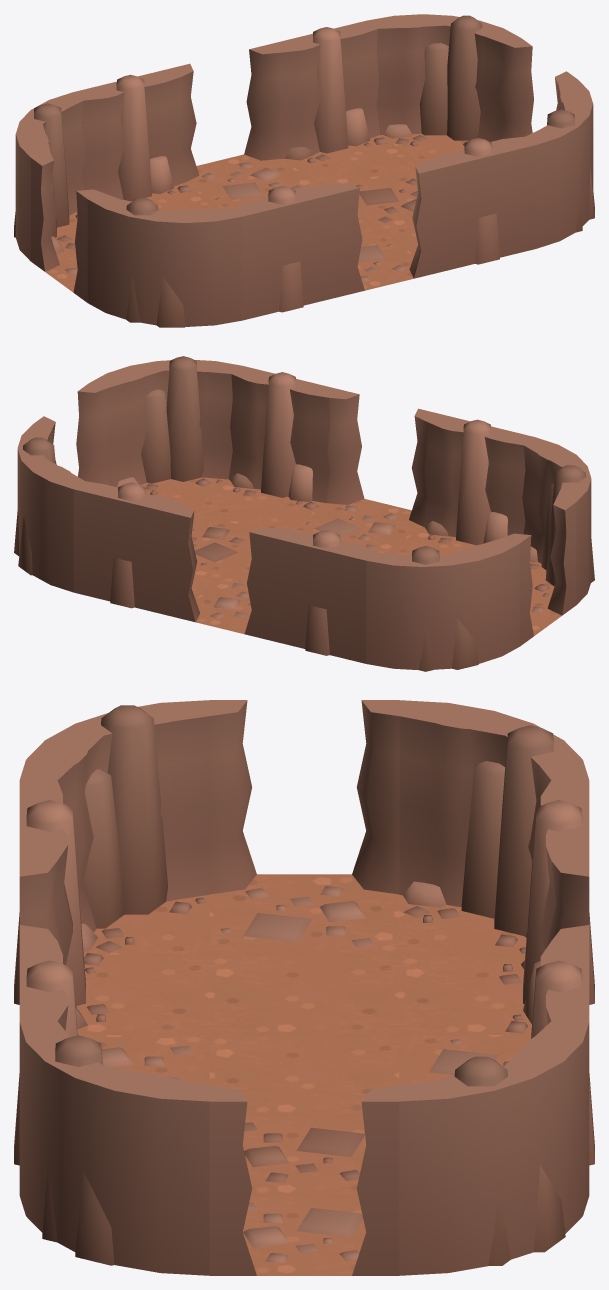
File: room-wide.glb
The picture shows the model from 3 angles, top to bottom: view 1: azimuth 30°, elevation 25°; view 2: azimuth 150°, elevation 25°; view 3: azimuth 270°, elevation 25°; orthographic projection. The views are drawn at different scales.
Visible parts, largest first — view 1: room-wide; view 2: room-wide; view 3: room-wide.
Part boxes in pixels (<box>): room-wide: <box>14,14,594,327</box>; room-wide: <box>14,356,594,671</box>; room-wide: <box>14,700,594,1275</box>.
Bounding box in the file's own units: 20 × 4.4 × 12.23.
1 material, 1 textured.
